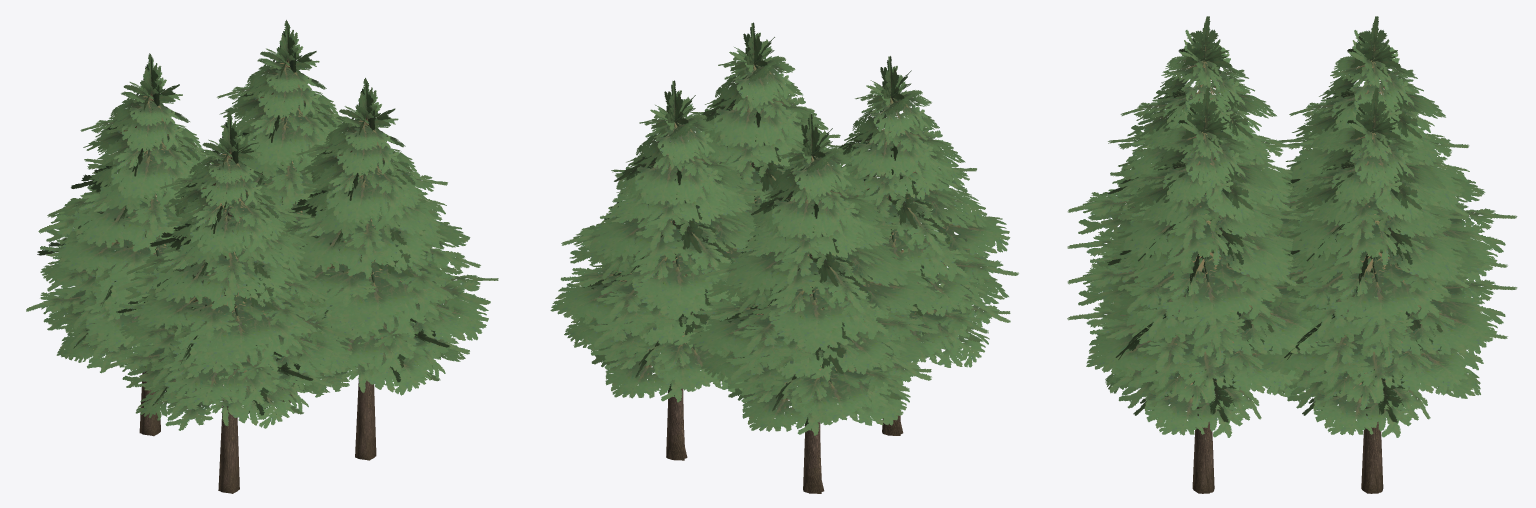
Rendered from Tree_FirTreeCx4.fbx.
The picture shows the model from 3 angles, left to right: view 1: azimuth 30°, elevation 25°; view 2: azimuth 150°, elevation 25°; view 3: azimuth 270°, elevation 25°; orthographic projection. The views are drawn at different scales.
Parts seen in each view (by area): view 1: Leaf01, Leaf01_Bmap, Leaf01_2, Leaf01_LOD2_2, Leaf01_1, Leaf01_Bmap_2, Leaf01_LOD2_1, Leaf01_LOD1_2, Leaf01_Bmap_1, Leaf01_LOD1_1, Leaf01_3, Leaf01_LOD2_3 (+4 smaller); view 2: Leaf01_1, Leaf01, Leaf01_3, Leaf01_LOD2_1, Leaf01_Bmap, Leaf01_LOD2_3, Leaf01_Bmap_1, Leaf01_LOD1_1, Leaf01_Bmap_3, Leaf01_LOD1_3, Leaf01_2, Leaf01_LOD2_2 (+4 smaller); view 3: Leaf01_3, Leaf01_2, Leaf01_LOD2_2, Leaf01_LOD2_3, Leaf01_Bmap_2, Leaf01_Bmap_3, Leaf01_LOD1_2, Leaf01_LOD1_3, Leaf01, Leaf01_Bmap, Leaf01_1, Leaf01_LOD2_1 (+4 smaller).
Boxes of the visible parts, bbox=[...] form: Leaf01: bbox=[105, 111, 351, 430]; Leaf01_Bmap: bbox=[105, 111, 353, 430]; Leaf01_2: bbox=[288, 78, 488, 397]; Leaf01_LOD2_2: bbox=[288, 94, 491, 394]; Leaf01_1: bbox=[39, 54, 213, 372]; Leaf01_Bmap_2: bbox=[279, 78, 498, 397]; Leaf01_LOD2_1: bbox=[27, 69, 247, 367]; Leaf01_LOD1_2: bbox=[283, 78, 498, 395]; Leaf01_Bmap_1: bbox=[26, 53, 216, 373]; Leaf01_LOD1_1: bbox=[26, 54, 211, 372]; Leaf01_3: bbox=[217, 24, 343, 256]; Leaf01_LOD2_3: bbox=[214, 48, 382, 327]; Leaf01_1: bbox=[687, 114, 939, 435]; Leaf01: bbox=[828, 56, 1018, 367]; Leaf01_3: bbox=[551, 81, 761, 402]; Leaf01_LOD2_1: bbox=[688, 126, 938, 433]; Leaf01_Bmap: bbox=[828, 56, 1018, 367]; Leaf01_LOD2_3: bbox=[551, 93, 758, 399]; Leaf01_Bmap_1: bbox=[698, 114, 939, 435]; Leaf01_LOD1_1: bbox=[687, 119, 937, 434]; Leaf01_Bmap_3: bbox=[561, 80, 761, 402]; Leaf01_LOD1_3: bbox=[550, 84, 755, 401]; Leaf01_2: bbox=[692, 23, 837, 232]; Leaf01_LOD2_2: bbox=[690, 34, 840, 234]; Leaf01_3: bbox=[1255, 87, 1507, 437]; Leaf01_2: bbox=[1067, 88, 1330, 437]; Leaf01_LOD2_2: bbox=[1067, 103, 1318, 435]; Leaf01_LOD2_3: bbox=[1257, 106, 1504, 435]; Leaf01_Bmap_2: bbox=[1067, 87, 1319, 437]; Leaf01_Bmap_3: bbox=[1255, 87, 1517, 437]; Leaf01_LOD1_2: bbox=[1068, 90, 1330, 437]; Leaf01_LOD1_3: bbox=[1259, 101, 1516, 437]; Leaf01: bbox=[1067, 16, 1299, 310]; Leaf01_Bmap: bbox=[1067, 16, 1300, 299]; Leaf01_1: bbox=[1273, 16, 1507, 323]; Leaf01_LOD2_1: bbox=[1278, 31, 1505, 296].
Size of what is drawn, in the model's own units: 602 by 575 by 594.
Materials: 2 (2 with a texture image).
